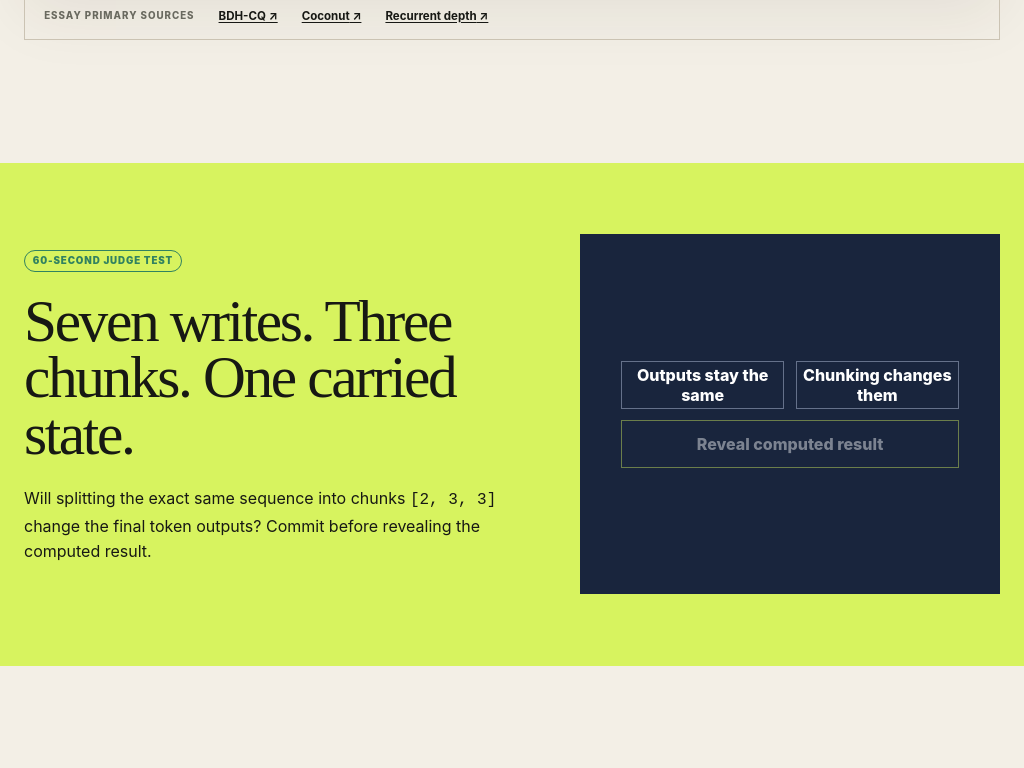
BDH State Microscope learning journey › requires a prediction before revealing the computed chunk-parity result
(page scrolled)
expect the button "Reveal computed result" is disabled: met, box x1=621 y1=420 x2=959 y2=468
Step 1. Click the button "Outputs stay the same" → [703, 385], box x1=621 y1=361 x2=784 y2=409
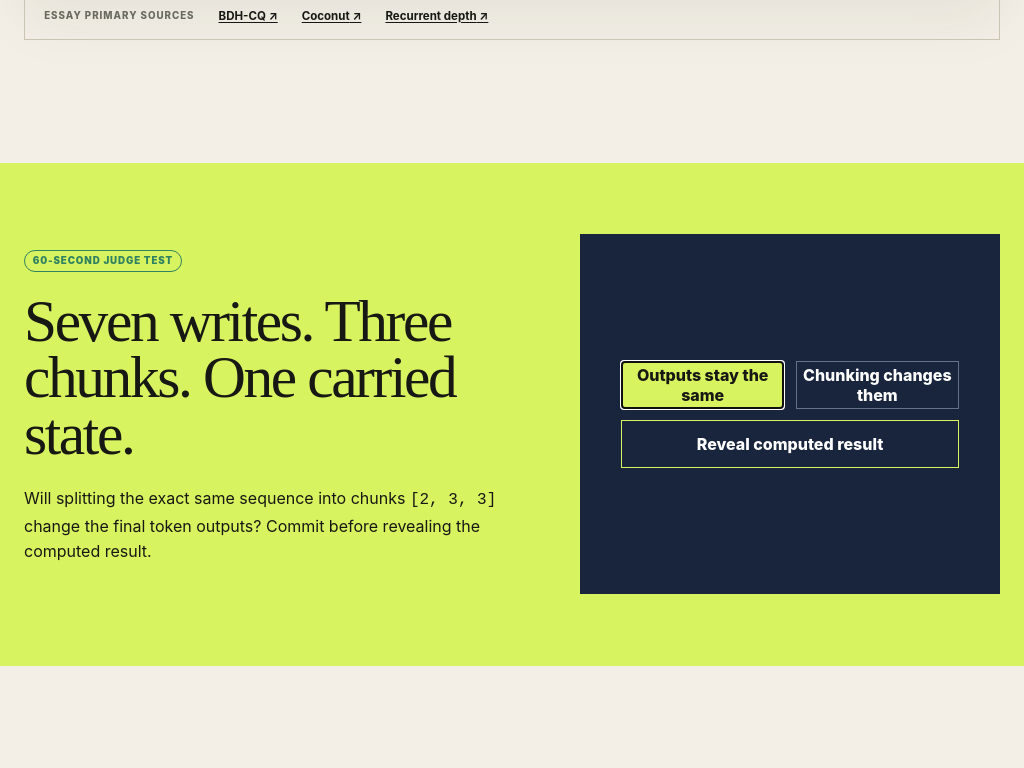
expect the button "Reveal computed result" is enabled: met
Step 2. Click the button "Reveal computed result" → [790, 444], box x1=621 y1=420 x2=959 y2=468
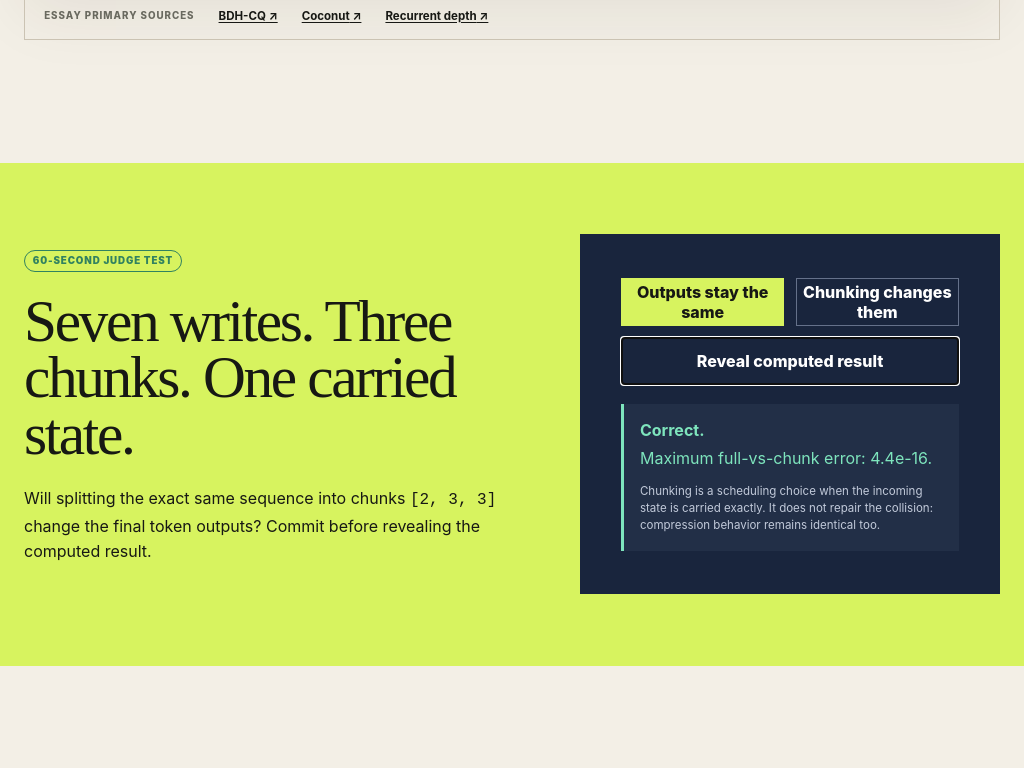
expect the text "Correct." is shown: met, box x1=640 y1=420 x2=705 y2=440
expect the text "Maximum full-vs-chunk error: 4.4e-16." is shown: met, box x1=640 y1=448 x2=943 y2=468
